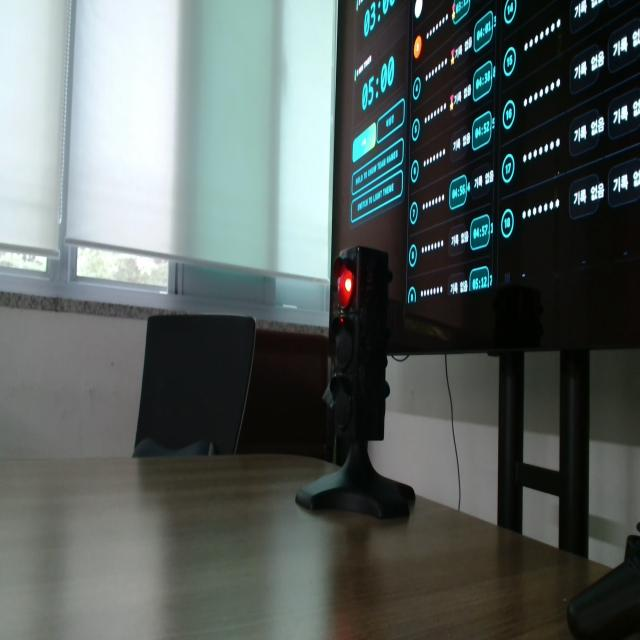red_light: (338, 266, 353, 308)
